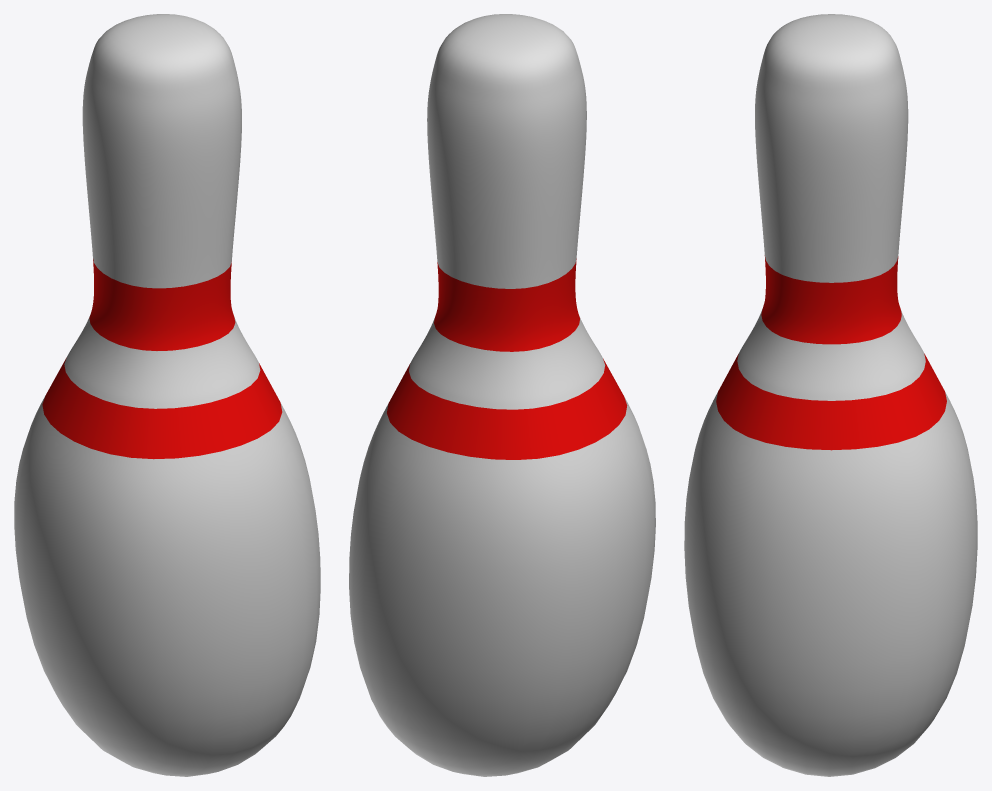
Rendered from pin.fbx.
The picture shows the model from 3 angles, left to right: view 1: azimuth 30°, elevation 25°; view 2: azimuth 150°, elevation 25°; view 3: azimuth 270°, elevation 25°; orthographic projection. The views are drawn at different scales.
Parts seen in each view (by area): view 1: Cube; view 2: Cube; view 3: Cube.
Boxes of the visible parts, x1,y1,x2,y2 form: Cube: [14, 14, 320, 776]; Cube: [349, 14, 655, 776]; Cube: [684, 14, 977, 776].
Size of the model in its own units: 218 by 592 by 216.
